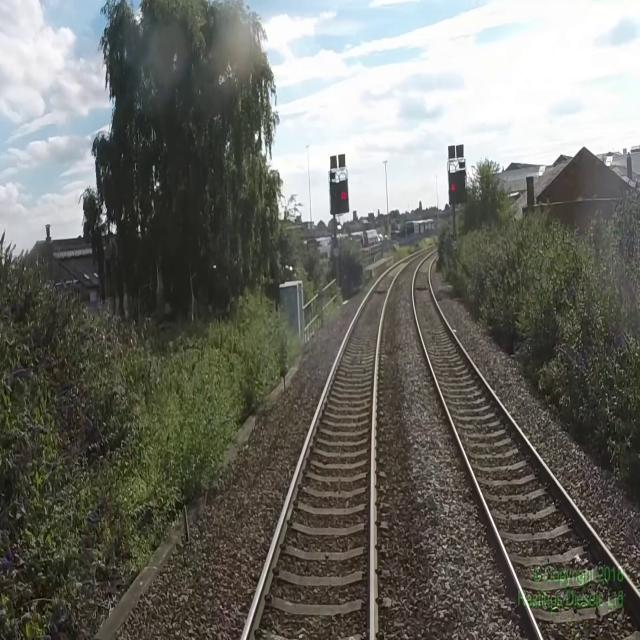rail-track: (413, 249, 640, 639), (245, 244, 435, 639)
